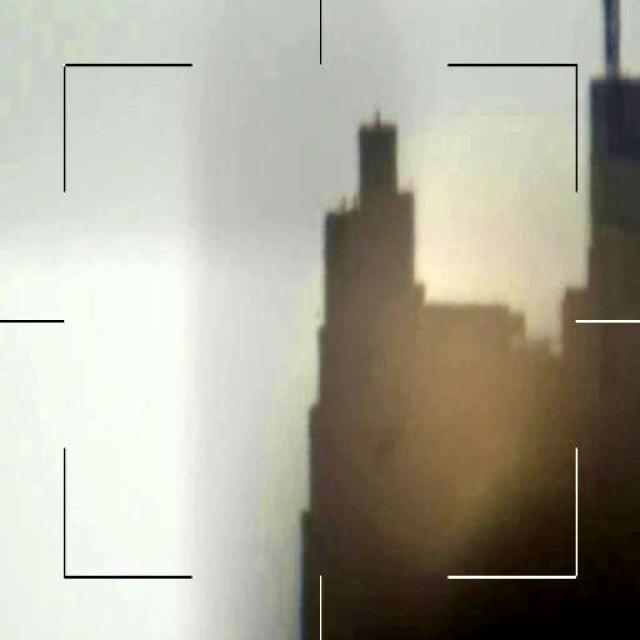bird: (349, 412, 408, 479)
